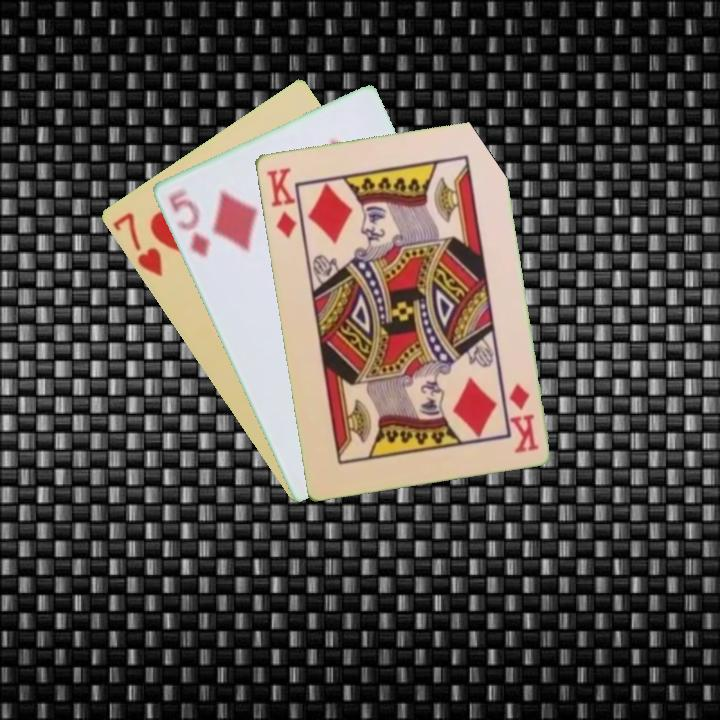5d: (164, 185, 212, 260)
7h: (109, 209, 165, 279)
Kd: (262, 163, 299, 241), (505, 379, 541, 456)
